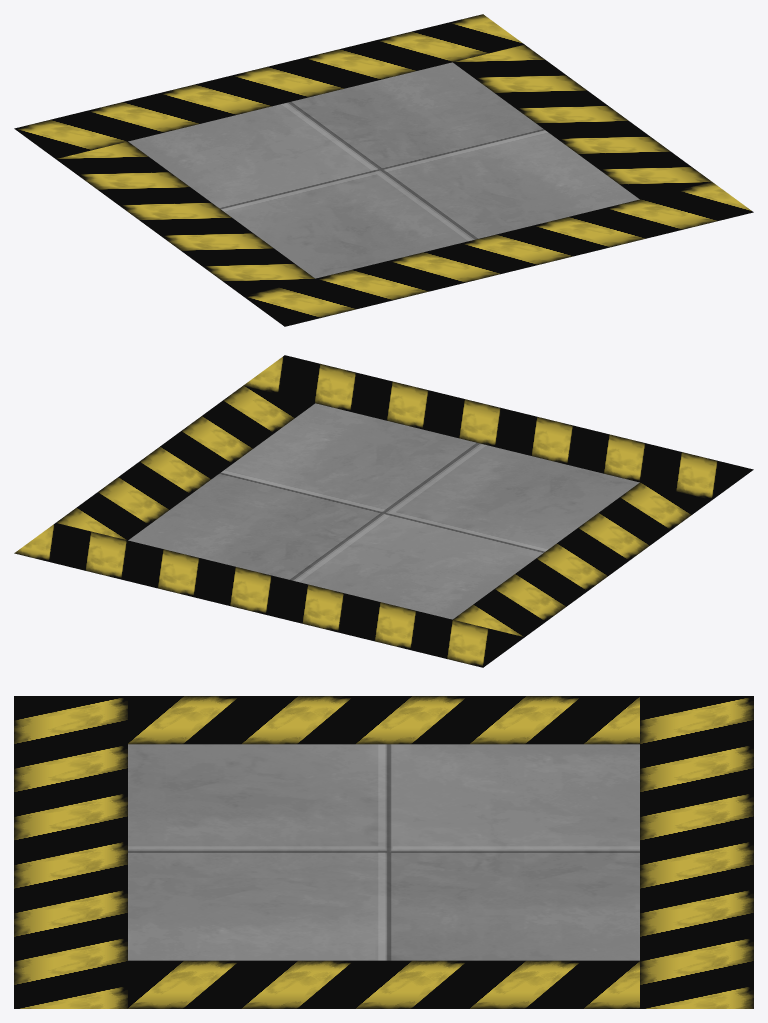
File: stomper_panel.fbx
The picture shows the model from 3 angles, top to bottom: view 1: azimuth 30°, elevation 25°; view 2: azimuth 150°, elevation 25°; view 3: azimuth 270°, elevation 25°; orthographic projection. The views are drawn at different scales.
Visible parts, largest first — view 1: stomper_panel; view 2: stomper_panel; view 3: stomper_panel.
Boxes of the visible parts, <box> form: stomper_panel: <box>14,14,753,326</box>; stomper_panel: <box>14,355,753,667</box>; stomper_panel: <box>14,696,753,1008</box>.
Bounding box in the file's own units: 465 × 7.02e-05 × 465.
